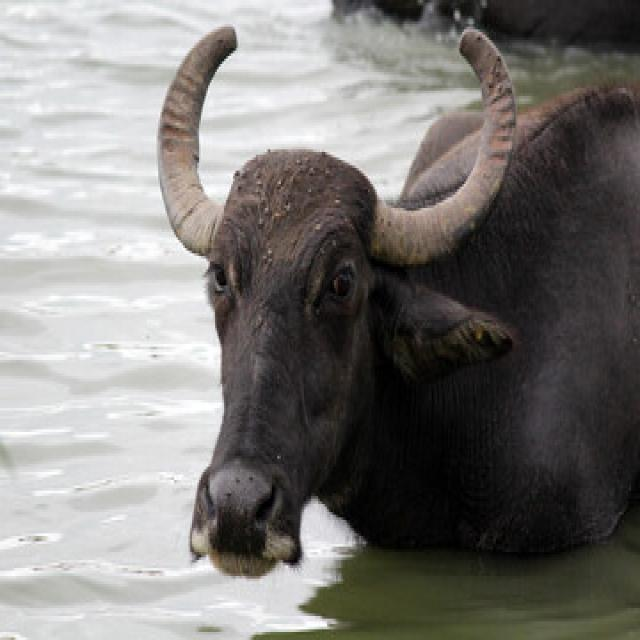Buffalo: (153, 19, 638, 579)
